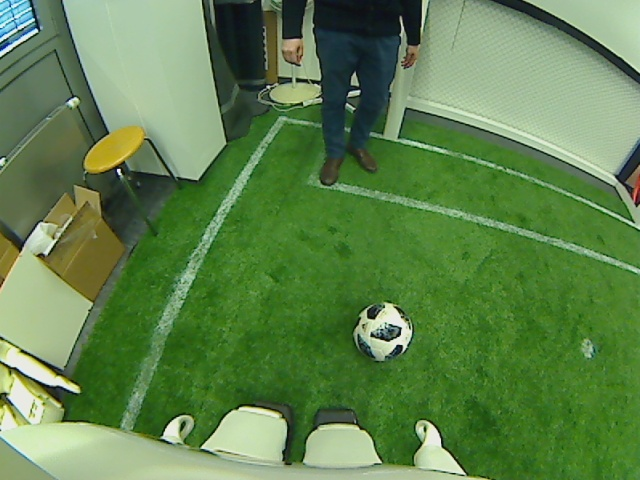ball: (351, 300, 414, 363)
